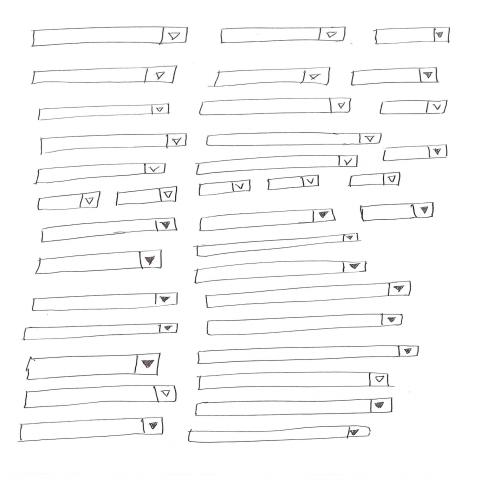Select: (205, 282, 412, 310), (206, 314, 404, 337), (197, 345, 421, 365), (196, 233, 360, 259), (195, 261, 368, 284), (22, 385, 178, 410), (195, 399, 395, 418), (19, 418, 165, 444), (26, 353, 161, 381), (31, 26, 189, 49), (40, 218, 178, 244), (197, 372, 391, 390), (199, 208, 338, 233), (39, 133, 188, 156), (35, 250, 164, 276), (187, 426, 372, 444), (23, 322, 180, 342), (31, 292, 179, 313), (195, 156, 358, 175), (34, 163, 168, 186), (31, 66, 177, 86), (199, 98, 352, 117), (205, 132, 383, 147), (37, 103, 171, 122), (213, 67, 332, 88), (218, 26, 348, 45), (349, 67, 439, 87), (359, 202, 436, 223), (374, 27, 451, 46), (36, 191, 102, 212), (115, 186, 179, 207), (381, 144, 449, 163), (379, 100, 448, 116), (198, 180, 252, 198), (348, 172, 403, 188), (267, 175, 320, 191)
